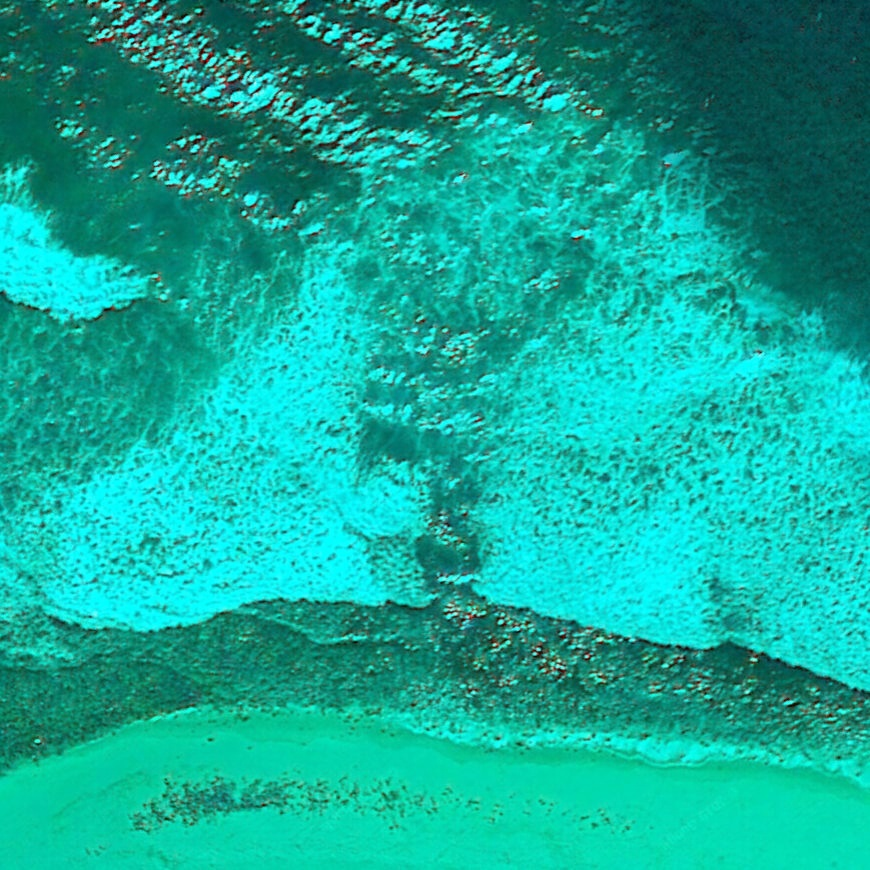rip_current: (289, 121, 559, 634)
